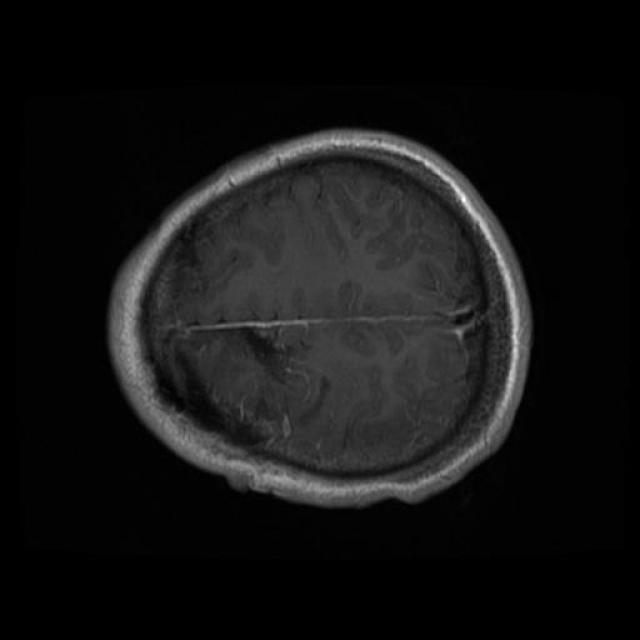Glioma: (173, 351, 290, 456), (220, 327, 304, 379)
